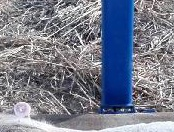text: (4, 94, 42, 123)
